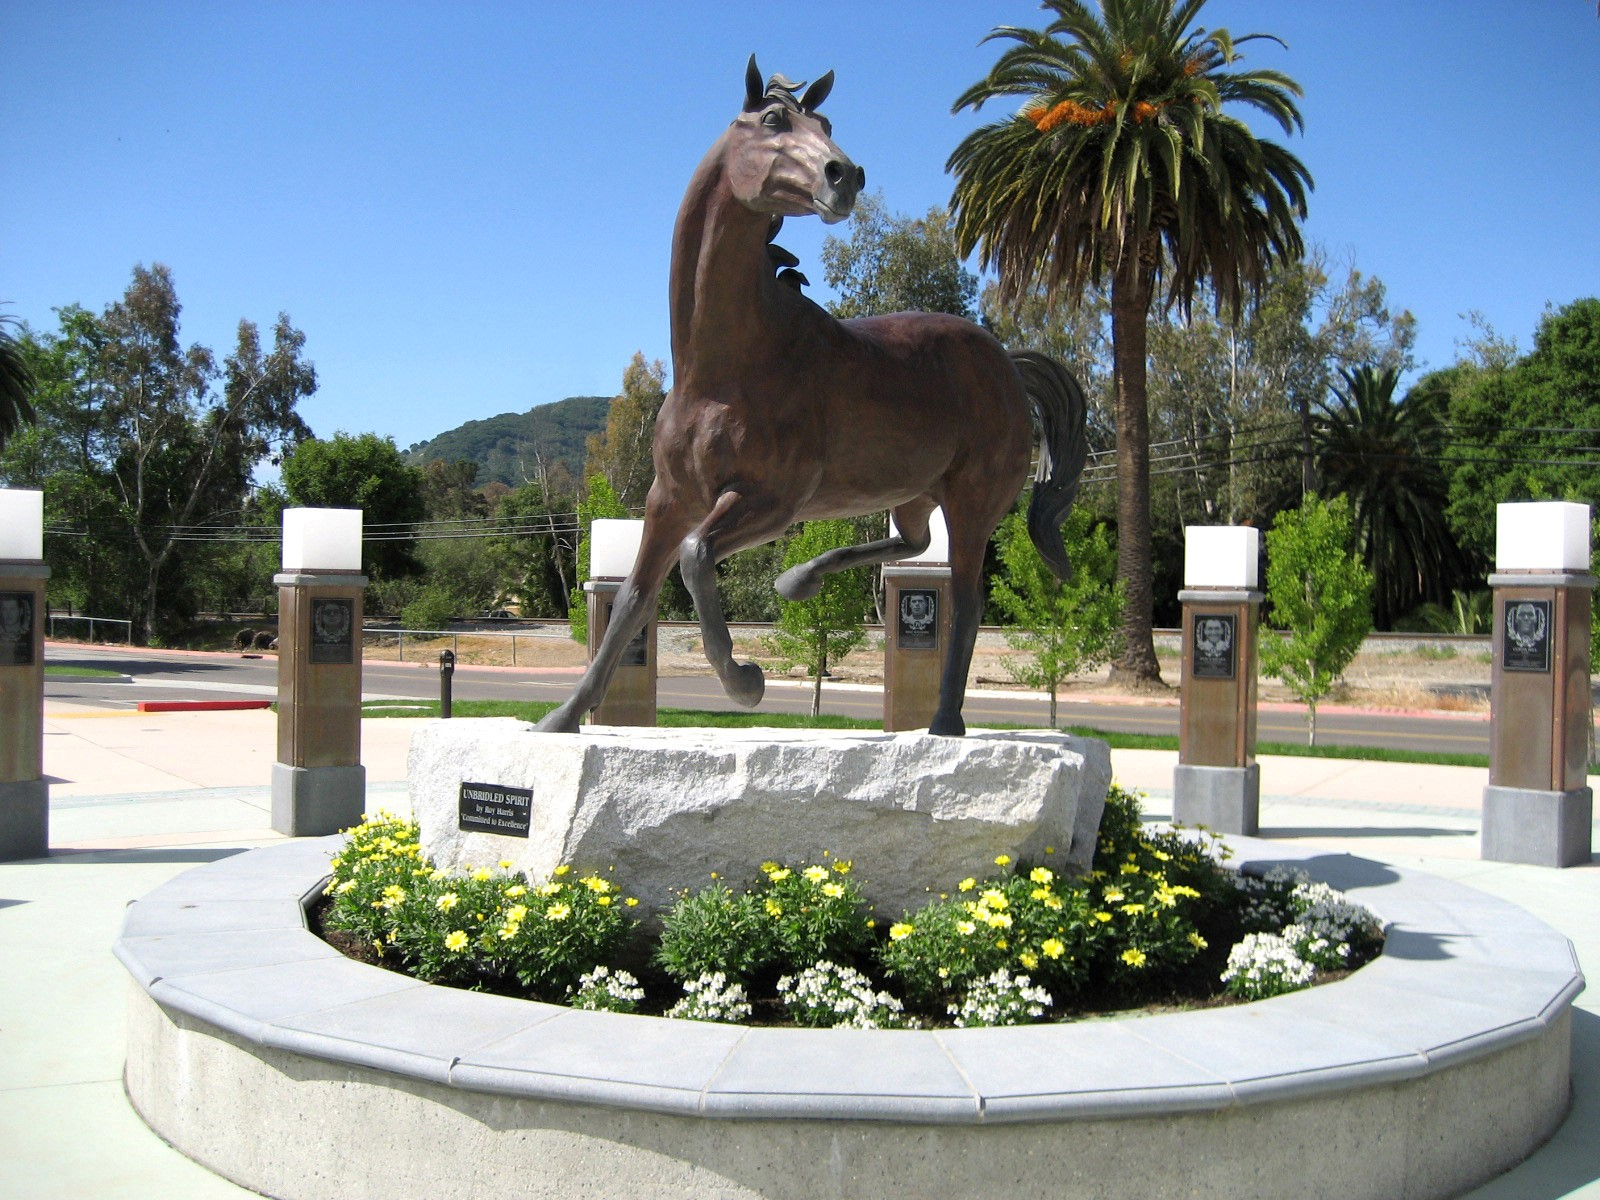Horse: (506, 24, 1039, 795)
